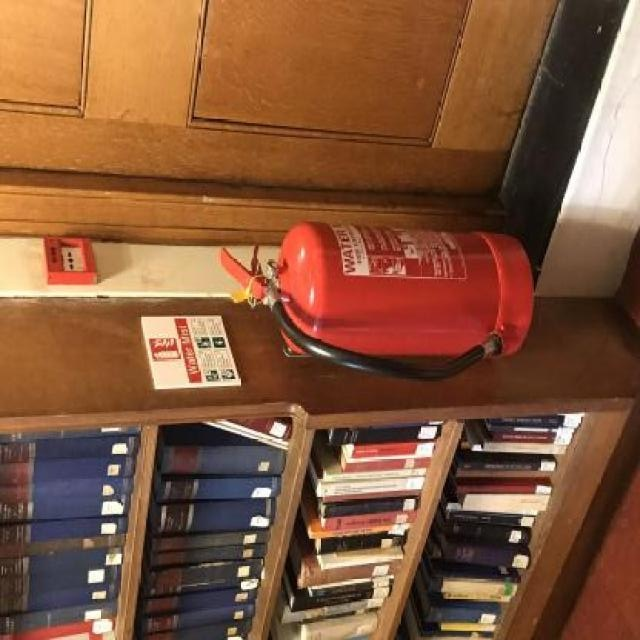fire extinguisher: (222, 222, 535, 380)
